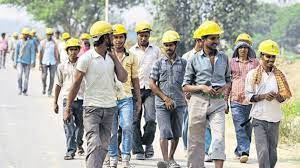arm: (148, 58, 176, 109), (59, 63, 81, 122), (182, 58, 214, 97), (49, 65, 62, 114), (12, 39, 21, 68), (29, 39, 37, 68)
face: (201, 33, 222, 50), (107, 32, 127, 48), (259, 52, 277, 67), (134, 30, 152, 45), (235, 43, 251, 59), (161, 41, 178, 54), (65, 45, 80, 59), (44, 32, 54, 39)
footwear: (118, 152, 132, 167), (107, 153, 119, 167), (61, 149, 76, 160), (107, 154, 119, 167), (22, 86, 30, 95), (15, 85, 23, 94), (40, 85, 48, 94), (2, 62, 7, 68)
glove: (158, 137, 176, 161), (60, 104, 74, 123), (162, 93, 176, 110), (49, 99, 61, 114)
helmet: (192, 18, 224, 39), (255, 36, 282, 57), (88, 19, 113, 38), (132, 17, 154, 34), (159, 28, 182, 43), (109, 21, 129, 36), (235, 30, 254, 45), (64, 36, 82, 49), (78, 30, 92, 42), (21, 25, 34, 35), (44, 26, 55, 36), (60, 30, 71, 39), (11, 30, 20, 38), (1, 30, 7, 37)
human: (75, 18, 125, 165), (183, 17, 230, 167), (247, 34, 290, 167), (150, 25, 189, 163), (54, 34, 84, 131), (14, 25, 37, 94), (38, 25, 59, 93), (1, 29, 10, 67)
leg: (184, 100, 208, 167), (79, 106, 103, 167), (229, 103, 252, 164), (116, 102, 137, 167), (206, 104, 227, 167), (154, 106, 176, 164), (249, 119, 275, 168), (136, 105, 156, 160), (60, 108, 80, 161), (21, 63, 31, 94), (39, 63, 48, 94), (47, 63, 56, 93), (2, 50, 8, 68)
noglove: (252, 79, 279, 102), (60, 105, 74, 124), (201, 82, 217, 95), (200, 81, 214, 94), (12, 61, 18, 69)
nogoggle: (202, 34, 220, 42), (110, 34, 126, 42), (261, 52, 276, 59), (162, 41, 177, 48)
novest: (78, 52, 122, 108), (248, 64, 285, 121), (252, 70, 287, 120), (86, 61, 115, 103), (194, 58, 227, 86), (135, 48, 150, 86), (42, 41, 54, 61)
vest: (187, 47, 227, 105), (227, 55, 259, 107), (155, 53, 185, 108), (131, 47, 156, 100), (56, 59, 79, 100), (41, 38, 57, 64), (18, 38, 33, 62), (1, 36, 8, 50)
